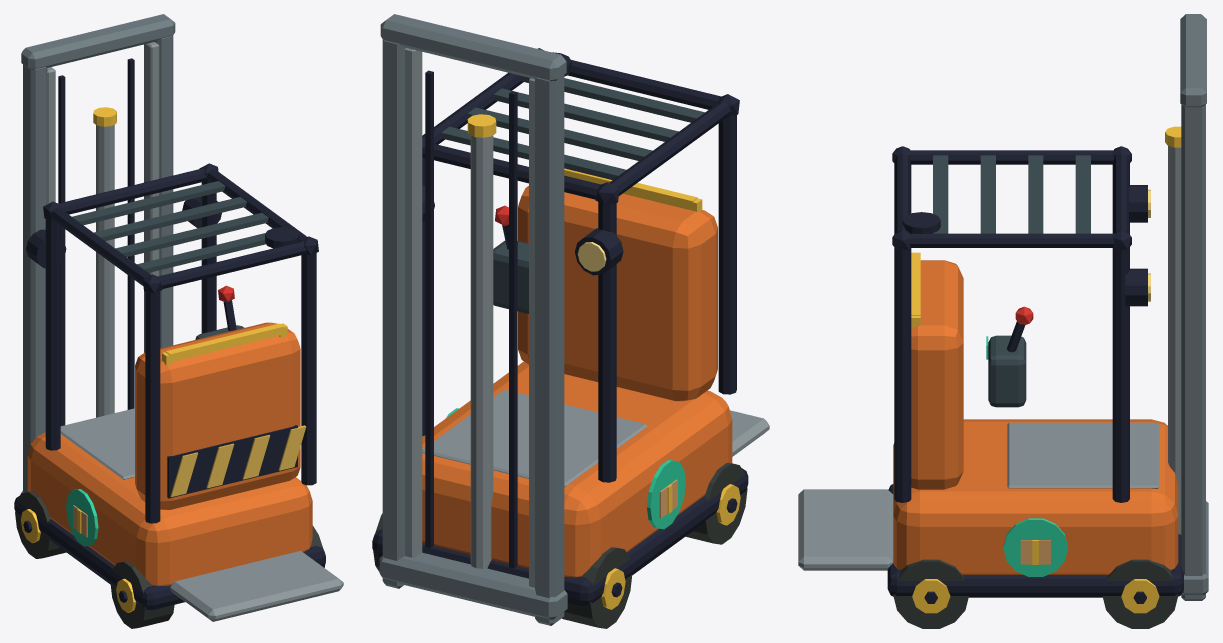
File: sm_env_depot_forklift_body.glb
3 renders of one model, left to right at view 1: azimuth 30°, elevation 25°; view 2: azimuth 150°, elevation 25°; view 3: azimuth 270°, elevation 25°, orthographic. The views are drawn at different scales.
Parts seen in each view (by area): view 1: Chassis, Hood, MastRail, StepPlate, LiftRam, MastHead, GuardPost.001, GuardPost.003, GuardPost, MastRail.001, HoodStripeBase, FloorMat (+24 smaller); view 2: Hood, Chassis, MastRail, MastRail.001, LiftRam, MastInner.001, FloorMat, MastFoot, MastHead, GuardPost.001, Bumper, GuardPost (+23 smaller); view 3: Chassis, MastRail.001, Hood, FloorMat, StepPlate, Bumper, LiftRam, GuardPost.003, GuardPost.002, GuardRail.003, Console, Tyre.003 (+18 smaller).
Part boxes in pixels (x1,y1,x2,y2): Chassis: (27, 432, 312, 585); Hood: (135, 322, 300, 509); MastRail: (23, 64, 47, 492); StepPlate: (170, 551, 343, 621); LiftRam: (96, 124, 114, 417); MastHead: (21, 14, 175, 69); GuardPost.001: (145, 291, 160, 523); GuardPost.003: (301, 253, 316, 485); GuardPost: (45, 219, 60, 450); MastRail.001: (155, 35, 173, 348); HoodStripeBase: (167, 425, 297, 498); FloorMat: (60, 408, 134, 479); Hood: (518, 186, 717, 401); Chassis: (422, 361, 732, 577); MastRail: (535, 75, 564, 625); MastRail.001: (382, 39, 405, 588); LiftRam: (470, 135, 493, 568); MastInner.001: (405, 48, 422, 557); FloorMat: (422, 389, 647, 486); MastFoot: (379, 552, 567, 619); MastHead: (380, 14, 566, 81); GuardPost.001: (718, 115, 736, 394); Bumper: (372, 468, 748, 606); GuardPost: (598, 202, 616, 482); Chassis: (893, 419, 1178, 574); MastRail.001: (1181, 104, 1205, 600); Hood: (911, 260, 963, 489); FloorMat: (1007, 422, 1159, 488); StepPlate: (798, 489, 893, 570); Bumper: (887, 484, 1183, 597); LiftRam: (1168, 146, 1181, 534); GuardPost.003: (894, 247, 911, 502); GuardPost.002: (1112, 247, 1129, 502); GuardRail.003: (909, 233, 1114, 247); Console: (988, 335, 1026, 407); Tyre.003: (893, 559, 968, 628).
Size of the model in its own units: 1.28 by 3.07 by 2.16.
